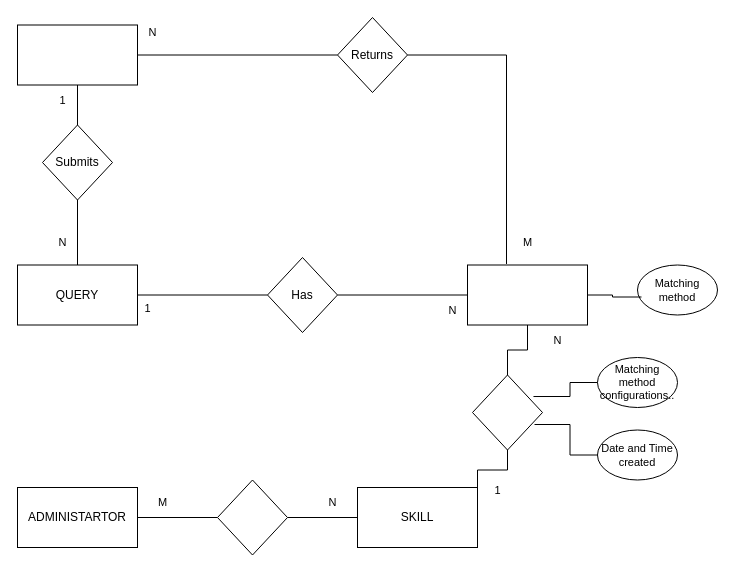
Image size: 735x573. Some labels were removed from this diagram. Here are the shapes that lost their labels. From the top down, the centre of each, then its label:
(x=77, y=54): USER
(x=527, y=294): MATCH RESULT
(x=507, y=412): Matches
(x=252, y=517): Possesses
